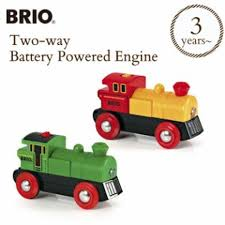brio: (92, 71, 206, 148)
